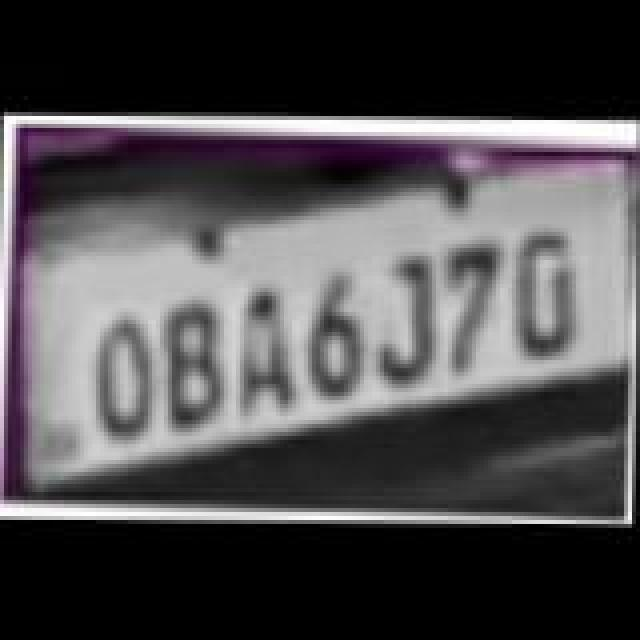6: (308, 270, 368, 398)
7: (442, 238, 506, 370)
A: (236, 286, 304, 414)
B: (164, 294, 232, 426)
D: (518, 228, 582, 356)
J: (374, 254, 438, 386)
O: (94, 312, 162, 440)
